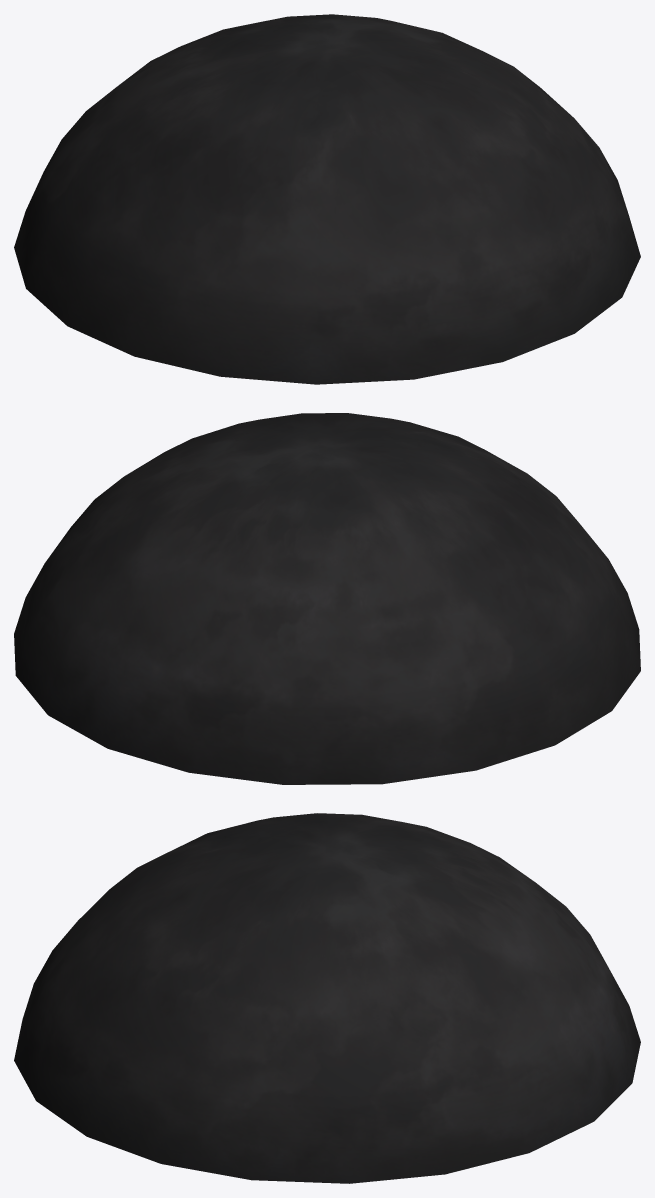
File: Sky Night - 02.fbx
3 views of the same model, one above another, from view 1: azimuth 30°, elevation 25°; view 2: azimuth 150°, elevation 25°; view 3: azimuth 270°, elevation 25° (orthographic).
Parts seen in each view (by area): view 1: sky; view 2: sky; view 3: sky.
Part boxes in pixels (x1,y1,x2,y2): sky: (14, 14, 640, 384); sky: (14, 413, 640, 784); sky: (14, 813, 640, 1183).
Bounding box in the file's own units: 985 × 356 × 985.
